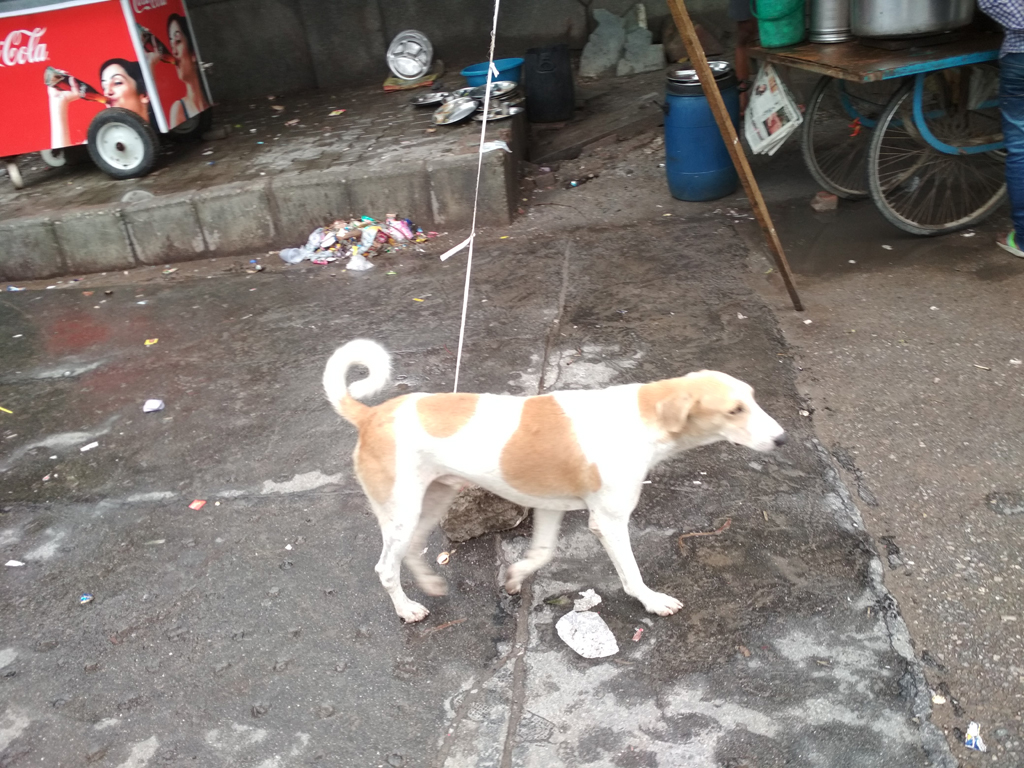dog: (324, 337, 787, 622)
